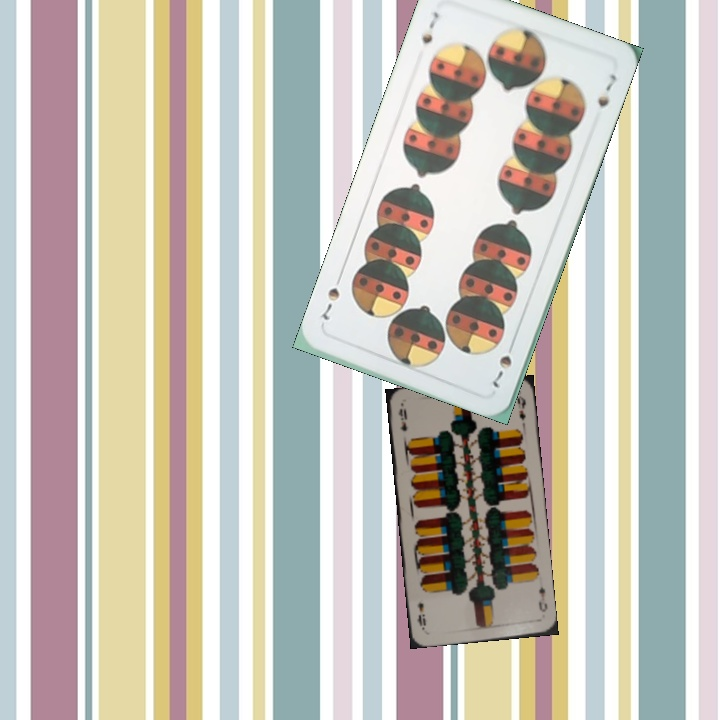E9: (535, 582, 550, 615), (394, 404, 410, 434)
S7: (488, 336, 518, 390), (417, 7, 442, 47)
